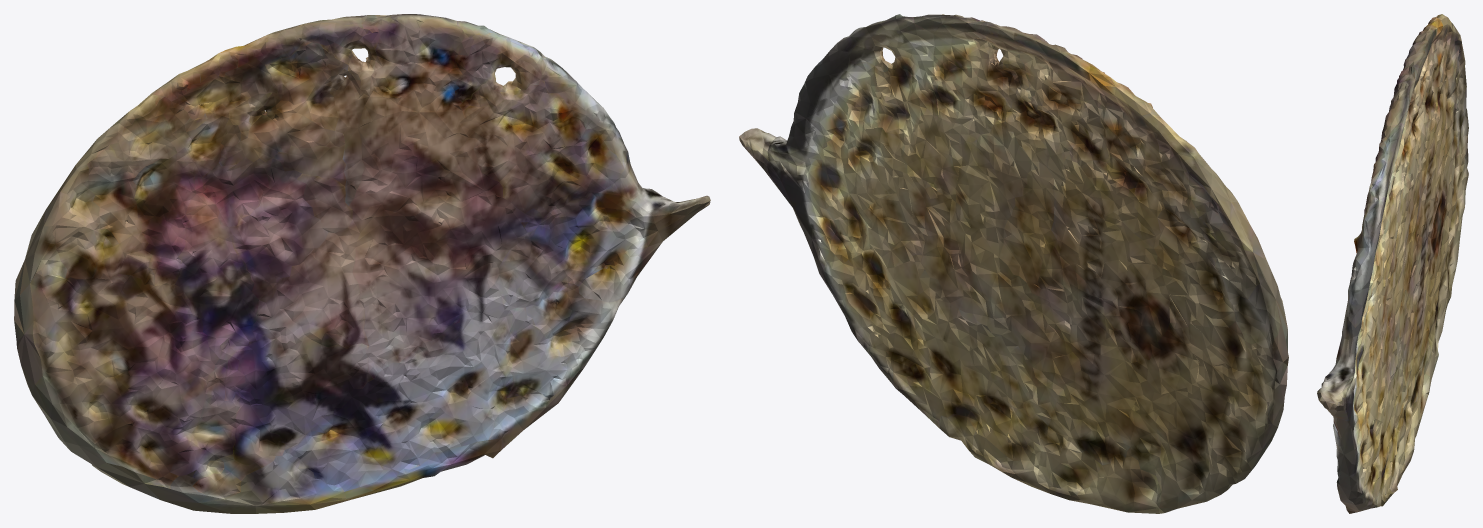
File: medallion.glb
The picture shows the model from 3 angles, left to right: view 1: azimuth 30°, elevation 25°; view 2: azimuth 150°, elevation 25°; view 3: azimuth 270°, elevation 25°; orthographic projection. The views are drawn at different scales.
Bounding box in the file's own units: 1.2 × 0.8605 × 0.2727.
1 material, 1 textured.
